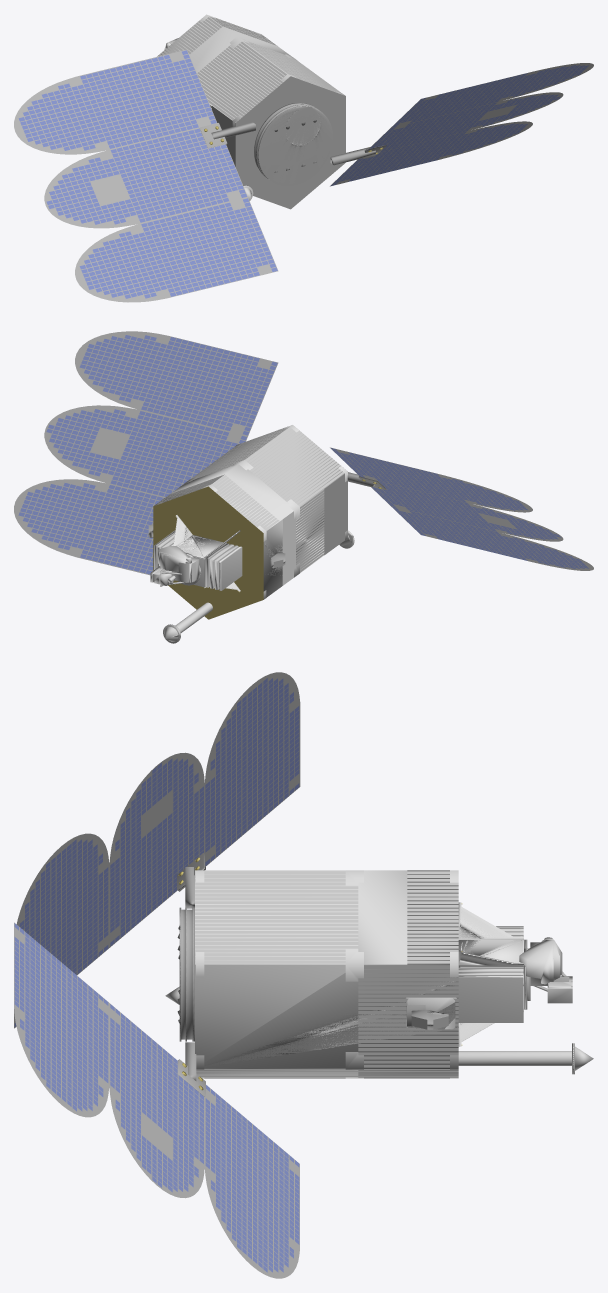
File: TOMS-Composite.fbx
3 views of the same model, one above another, from view 1: azimuth 30°, elevation 25°; view 2: azimuth 150°, elevation 25°; view 3: azimuth 270°, elevation 25° (orthographic). The views are drawn at different scales.
Visible parts, largest first — view 1: imagetostl_mesh0; view 2: imagetostl_mesh0; view 3: imagetostl_mesh0.
Part boxes in pixels (left/top/right/bottom): imagetostl_mesh0: left=14, top=14, right=593, bottom=302; imagetostl_mesh0: left=14, top=331, right=593, bottom=643; imagetostl_mesh0: left=14, top=672, right=593, bottom=1278.
Size of the model in its own units: 3892 by 1238 by 2422.
